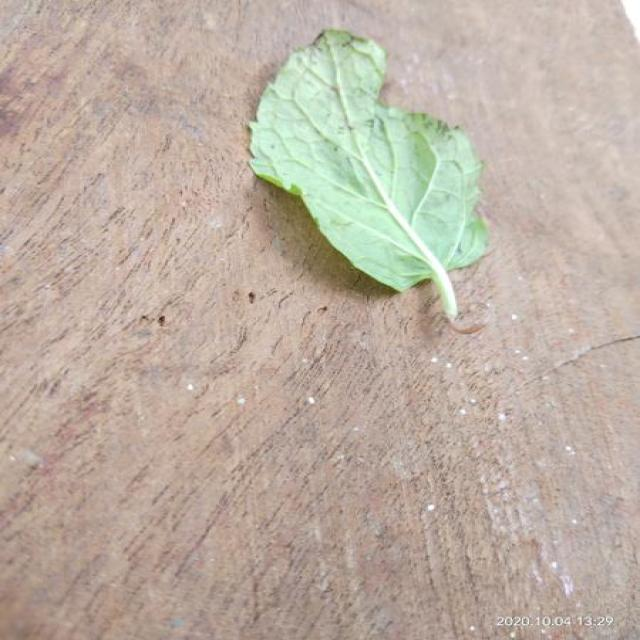mint: (250, 30, 487, 318)
